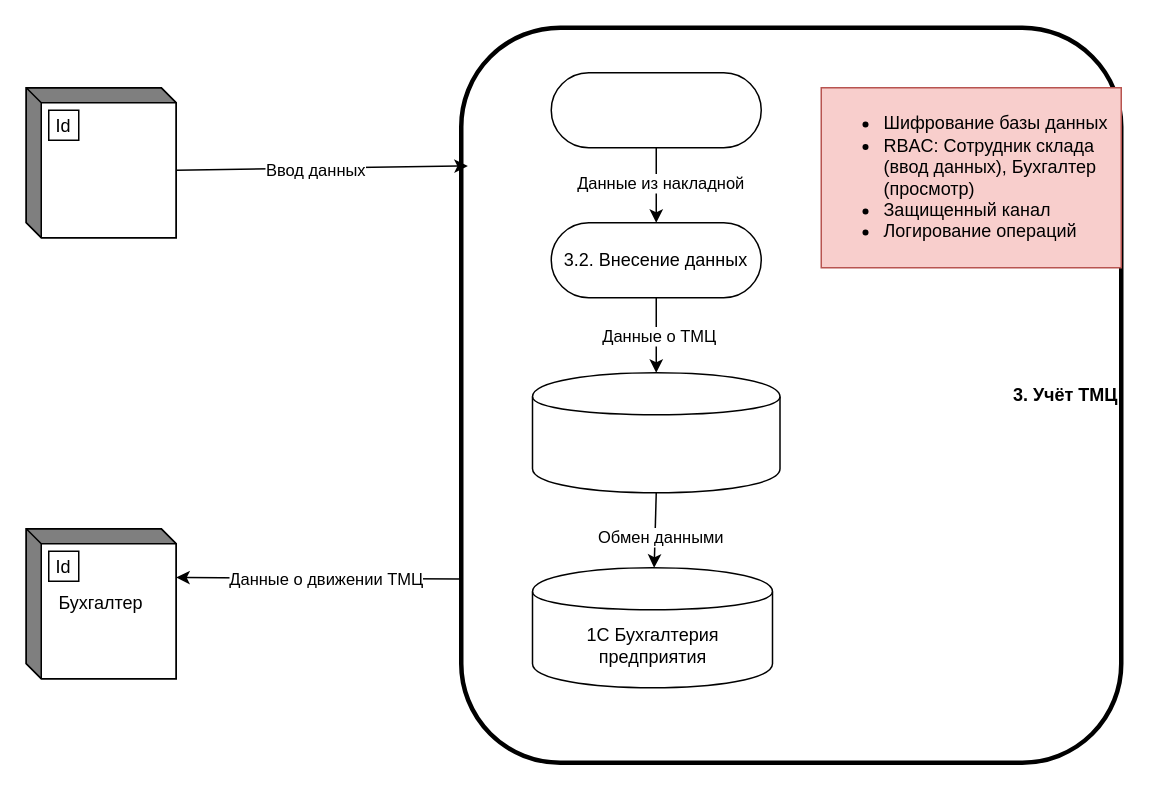
Image size: 1149x791. Some labels were removed from this diagram. Here are the shapes that lost their labels. From the top down, the centre of each, then its label:
(x=655, y=109): 3.1. Приемка ТМЦ
(x=100, y=162): Сотрудник склада
(x=655, y=432): 1C Торговля и склад
